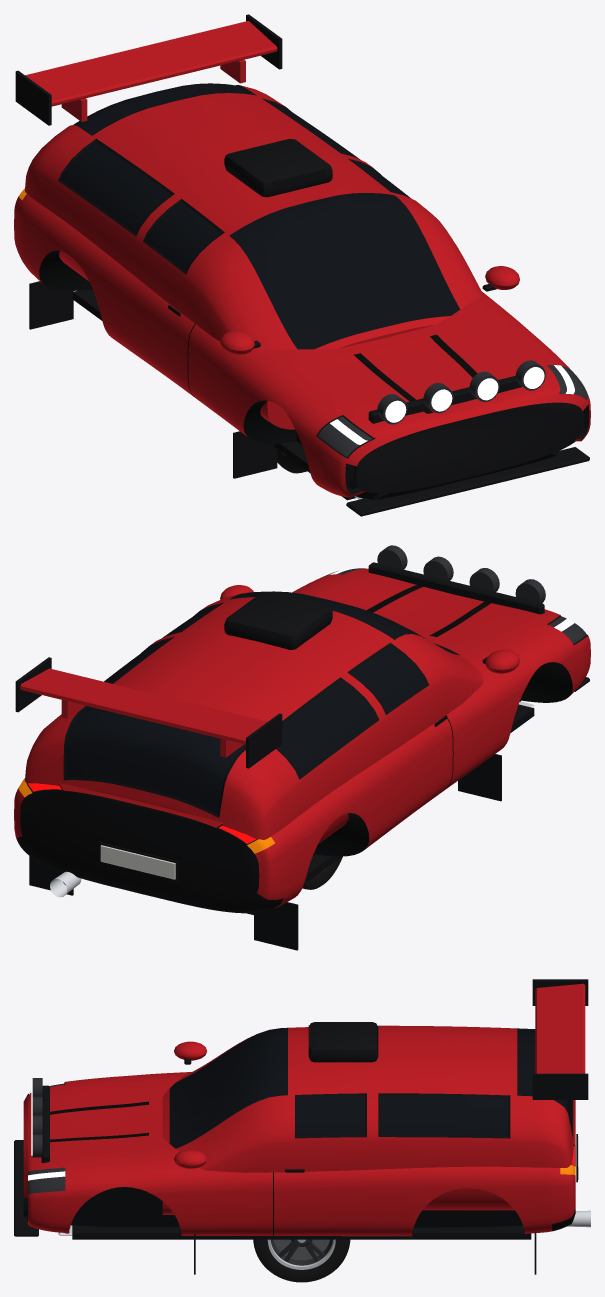
The model's file is rally.glb.
The picture shows the model from 3 angles, top to bottom: view 1: azimuth 30°, elevation 25°; view 2: azimuth 150°, elevation 25°; view 3: azimuth 270°, elevation 25°; orthographic projection. The views are drawn at different scales.
Visible parts, largest first — view 1: shell_lod0, details, wing, splitter, mirrorL, mirrorR; view 2: shell_lod0, details, wing, plate, mirrorR; view 3: shell_lod0, details, wing, wheel_lod0, splitter, mirrorR, mirrorL.
Part boxes in pixels (bbox=[...]): shell_lod0: bbox=[14, 83, 590, 499]; details: bbox=[29, 139, 545, 500]; wing: bbox=[15, 14, 282, 125]; splitter: bbox=[346, 447, 589, 516]; mirrorL: bbox=[482, 266, 519, 291]; mirrorR: bbox=[220, 330, 260, 354]; shell_lod0: bbox=[14, 568, 590, 913]; details: bbox=[29, 545, 545, 950]; wing: bbox=[15, 657, 282, 768]; plate: bbox=[99, 842, 178, 881]; mirrorR: bbox=[482, 649, 519, 673]; shell_lod0: bbox=[23, 1025, 575, 1236]; details: bbox=[31, 1022, 590, 1274]; wing: bbox=[532, 979, 588, 1099]; wheel_lod0: bbox=[253, 1239, 350, 1282]; splitter: bbox=[14, 1140, 38, 1236]; mirrorR: bbox=[174, 1041, 206, 1064]; mirrorL: bbox=[174, 1149, 207, 1168].
Size of what is drawn, in the model's own units: 2.04 by 1.97 by 4.15.
